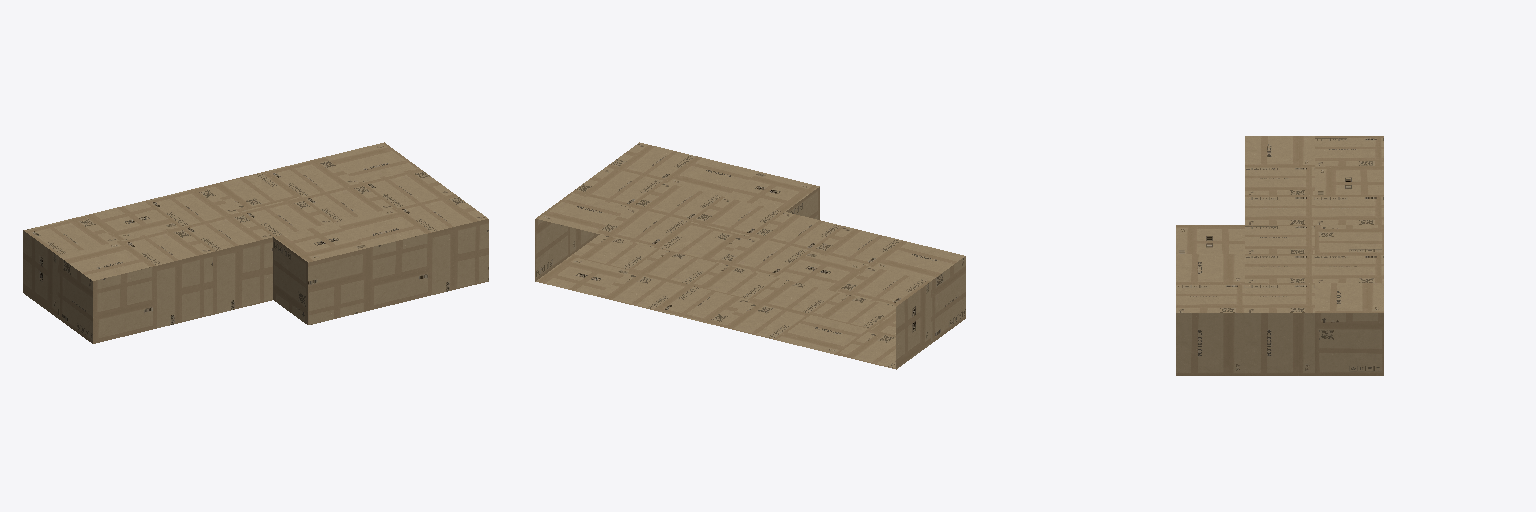
3 views of the same model, side by side, from view 1: azimuth 30°, elevation 25°; view 2: azimuth 150°, elevation 25°; view 3: azimuth 270°, elevation 25° (orthographic).
Visible parts, largest first — view 1: cardboxes02; view 2: cardboxes02; view 3: cardboxes02.
Part boxes in pixels (x1,y1,x2,y2): cardboxes02: (23,142,488,343); cardboxes02: (535,142,965,369); cardboxes02: (1176,136,1383,375).
Bounding box in the file's own units: 3.6 × 0.6 × 1.8.
Materials: 3 (1 with a texture image).